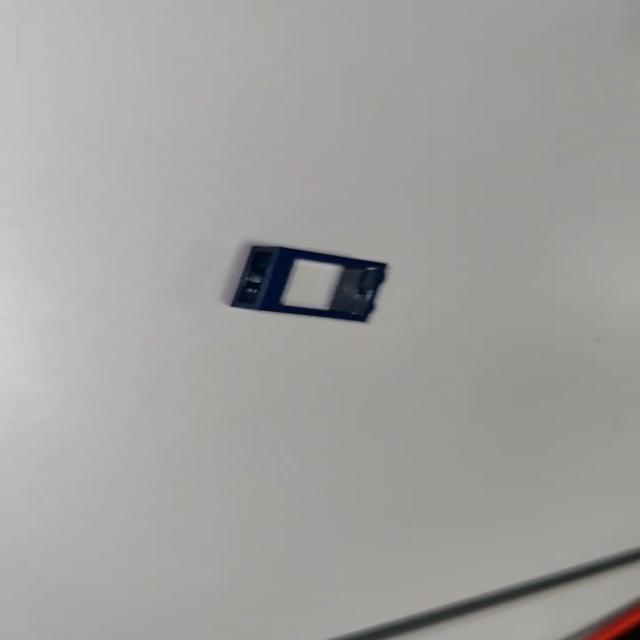W2x1x2: (233, 243, 399, 325)
